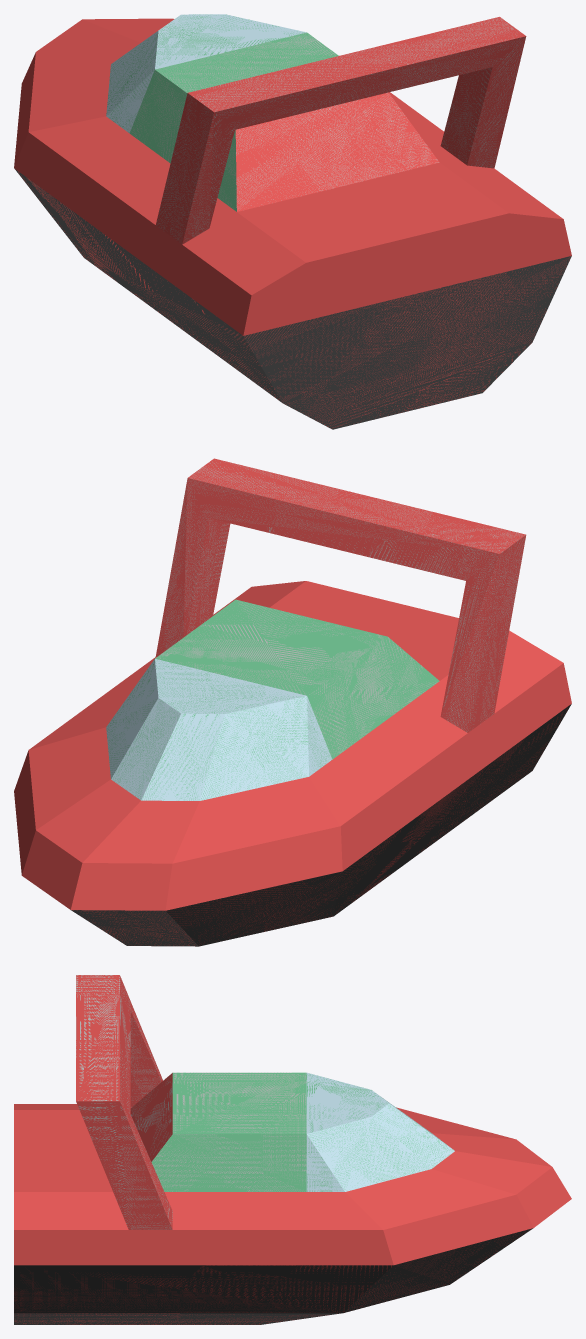
File: boat_021.dae
The picture shows the model from 3 angles, top to bottom: view 1: azimuth 30°, elevation 25°; view 2: azimuth 150°, elevation 25°; view 3: azimuth 270°, elevation 25°; orthographic projection. The views are drawn at different scales.
Parts seen in each view (by area): view 1: boat_021; view 2: boat_021; view 3: boat_021.
Boxes of the visible parts, bbox=[...] form: boat_021: bbox=[14, 14, 571, 429]; boat_021: bbox=[14, 458, 571, 946]; boat_021: bbox=[14, 975, 571, 1324].
Bounding box in the file's own units: 1.78 × 1.61 × 3.17.
